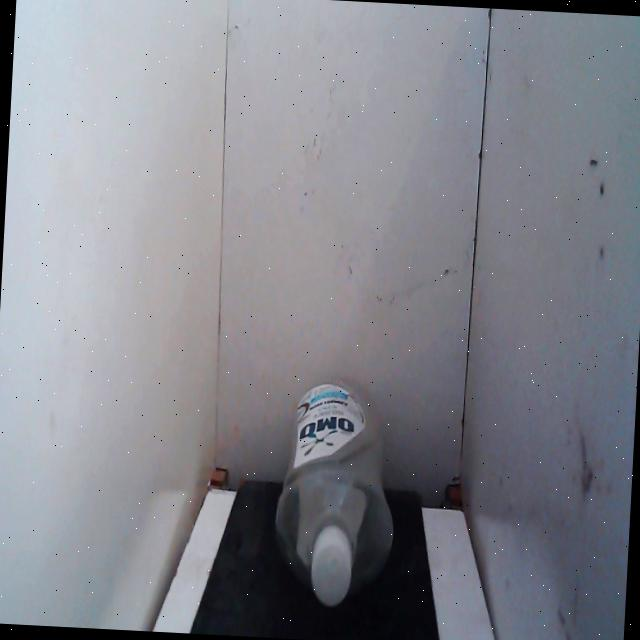plastico: (260, 350, 414, 622)
